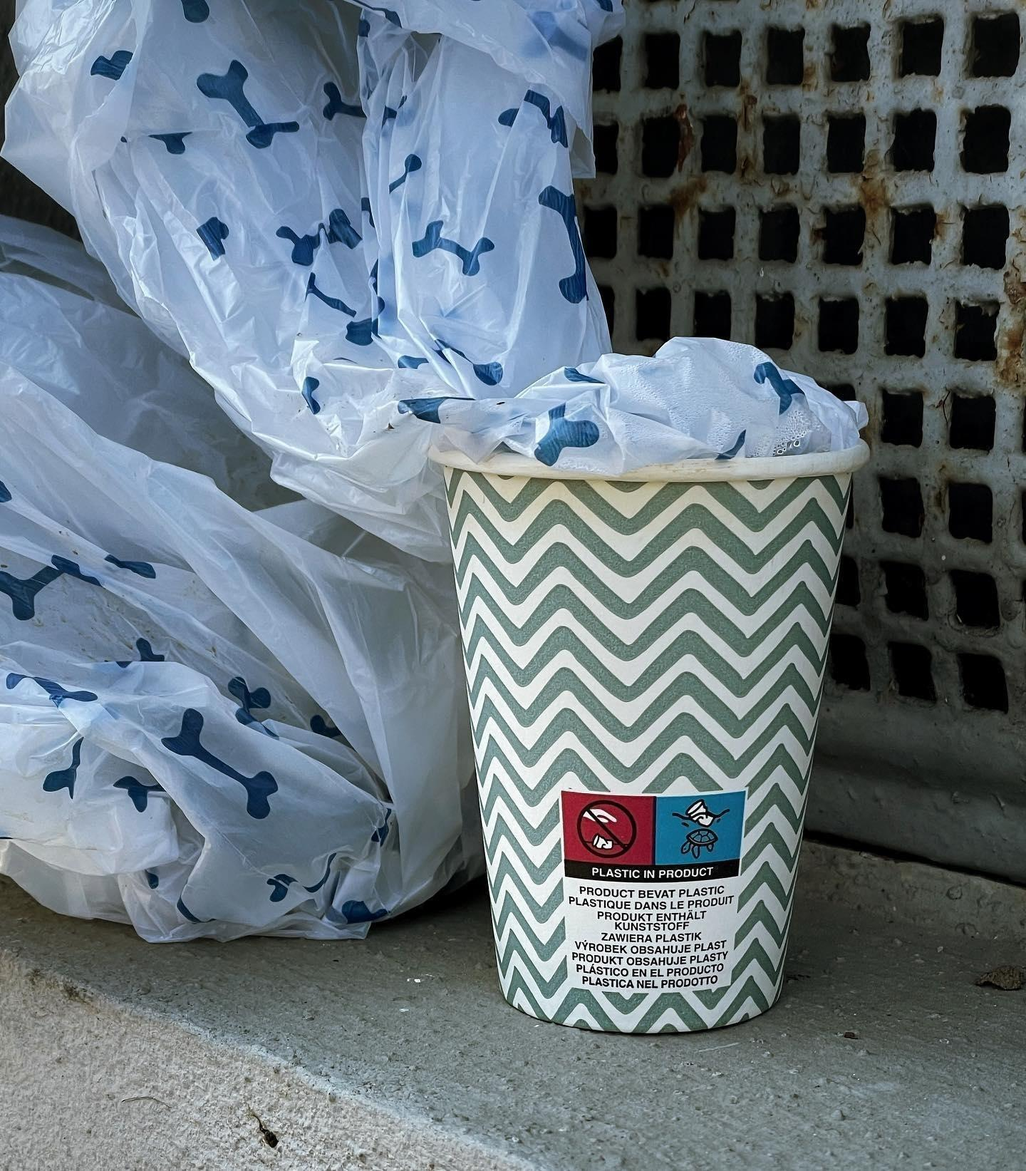cup-disposable: (422, 406, 881, 1040)
